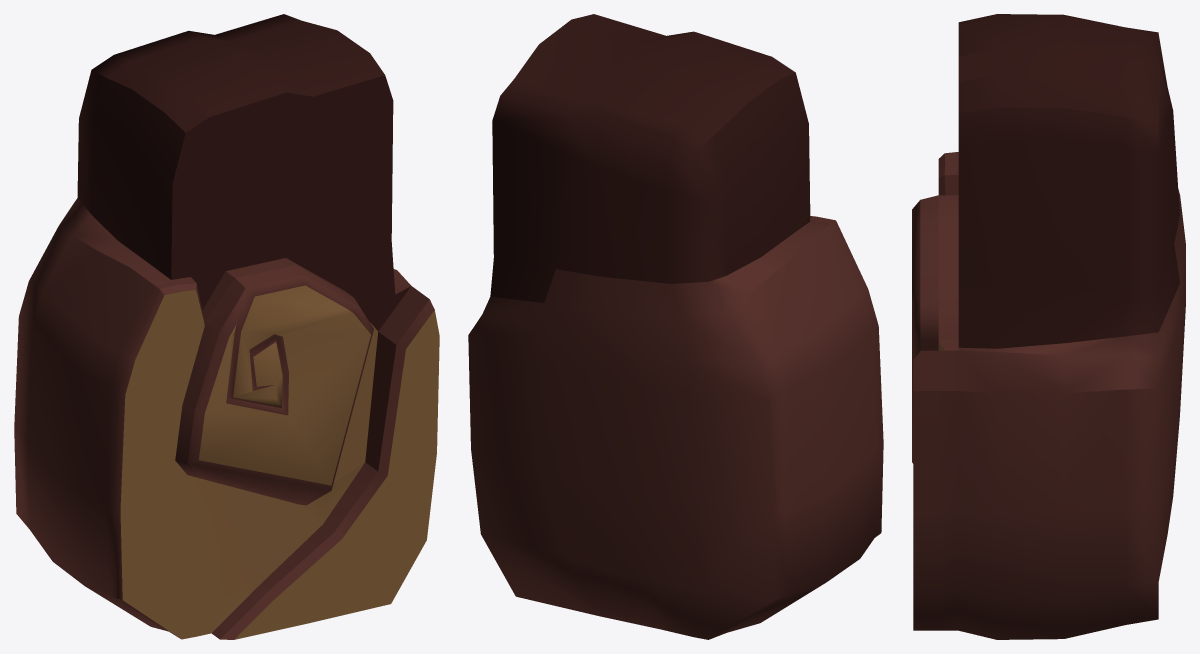
The model's file is SM_pietra_1.fbx.
3 views of the same model, side by side, from view 1: azimuth 30°, elevation 25°; view 2: azimuth 150°, elevation 25°; view 3: azimuth 270°, elevation 25° (orthographic). The views are drawn at different scales.
Parts seen in each view (by area): view 1: SM_pietra_1; view 2: SM_pietra_1; view 3: SM_pietra_1.
Part boxes in pixels (left/top/right/bottom): SM_pietra_1: left=14, top=14, right=439, bottom=639; SM_pietra_1: left=468, top=14, right=883, bottom=639; SM_pietra_1: left=912, top=14, right=1185, bottom=639.
Bounding box in the file's own units: 1008 × 1592 × 721.
